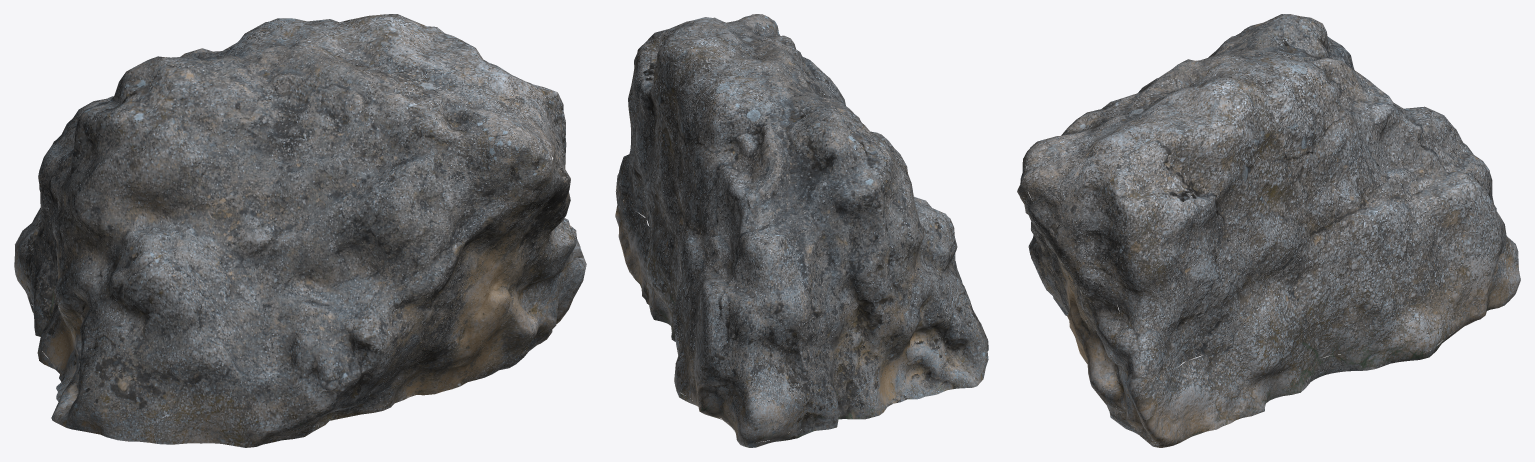
3 renders of one model, left to right at view 1: azimuth 30°, elevation 25°; view 2: azimuth 150°, elevation 25°; view 3: azimuth 270°, elevation 25°, orthographic. The views are drawn at different scales.
Parts seen in each view (by area): view 1: Object_2; view 2: Object_2; view 3: Object_2.
Boxes of the visible parts, x1,y1,x2,y2 form: Object_2: (14, 14, 586, 447); Object_2: (615, 14, 988, 447); Object_2: (1017, 14, 1520, 447).
Size of the model in its own units: 8.27 by 5.36 by 7.9.
1 material, 1 textured.
